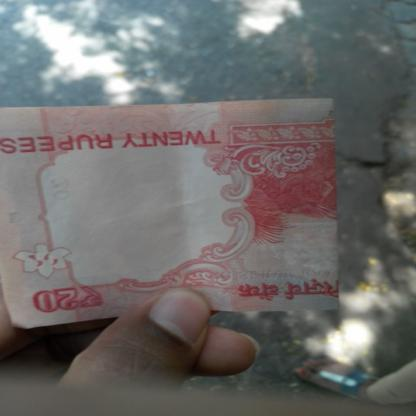Old20Back: (0, 114, 337, 317)
